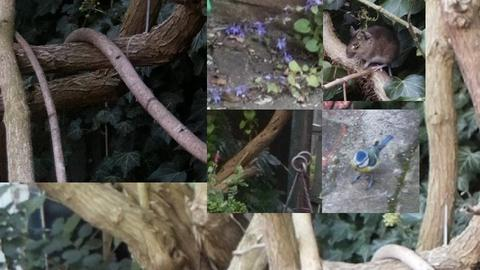blue tit: (350, 134, 394, 192)
mouse: (346, 25, 400, 77)
